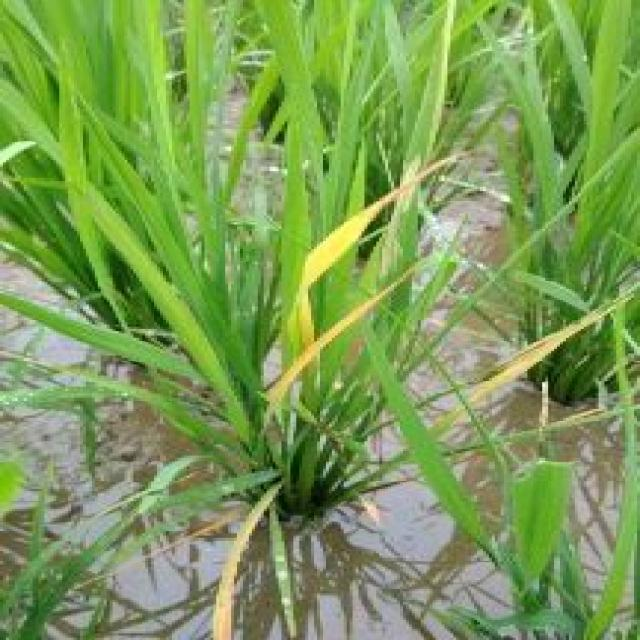Tungro: (255, 163, 463, 321), (455, 284, 640, 426), (204, 475, 287, 640)
